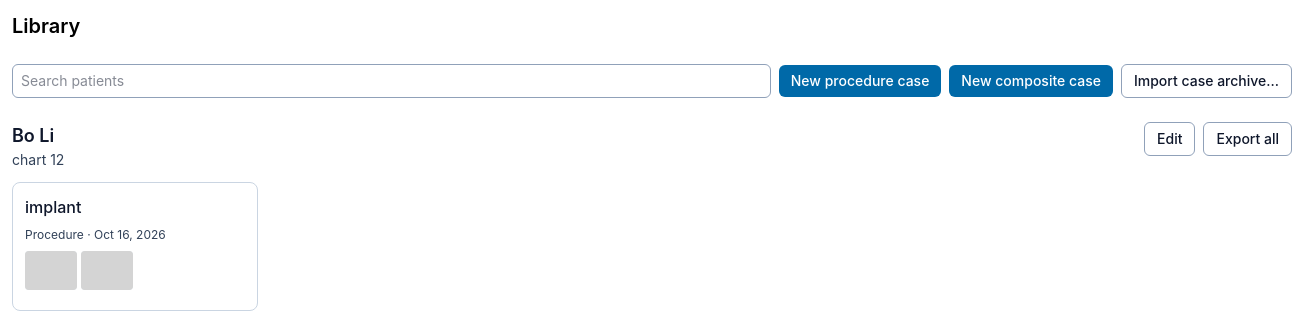
Test: LibraryScreen › says so when nothing matches the search
Expected: the heading "Bo Li" is shown, [12,125,54,146]
Type "zzz" into the search field at coordinates (391, 81), box [12,64,771,98]
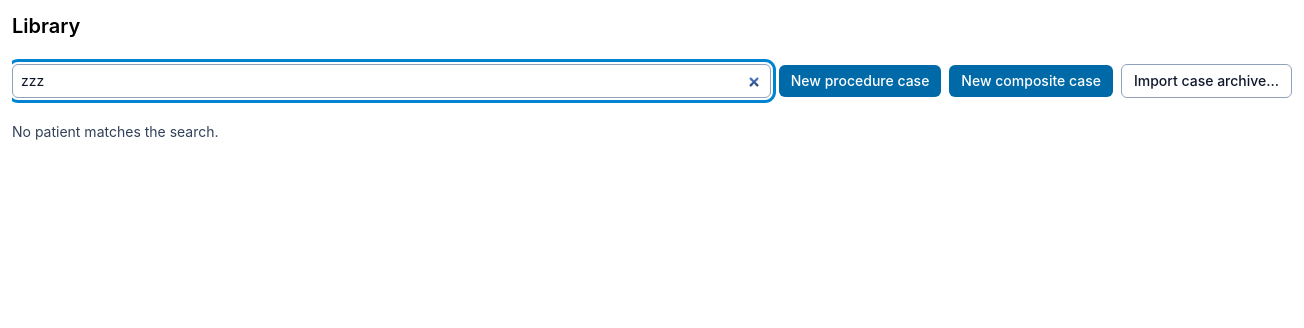
Result: the text "No patient matches the search." is shown at [12,123,219,140]
